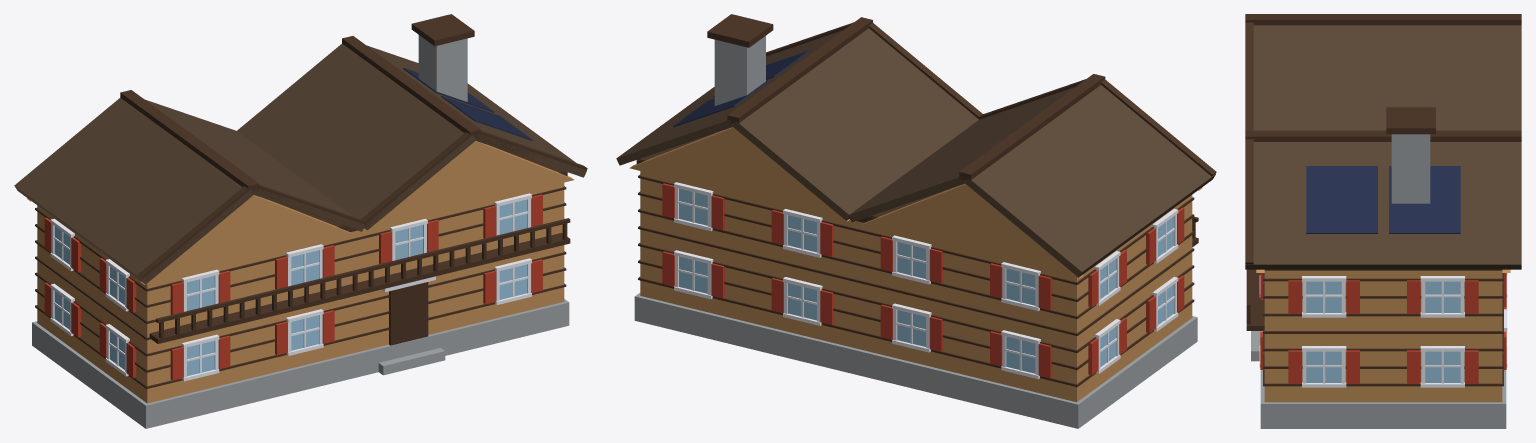
The model's file is house-2x1-2f-third-chalet-a-solar.glb.
3 renders of one model, left to right at view 1: azimuth 30°, elevation 25°; view 2: azimuth 150°, elevation 25°; view 3: azimuth 270°, elevation 25°, orthographic. The views are drawn at different scales.
Visible parts, largest first — view 1: house-2x1-2f-third-chalet-a-solar; view 2: house-2x1-2f-third-chalet-a-solar; view 3: house-2x1-2f-third-chalet-a-solar.
Part boxes in pixels (x1,y1,x2,y2): house-2x1-2f-third-chalet-a-solar: (14, 14, 587, 428); house-2x1-2f-third-chalet-a-solar: (616, 14, 1216, 428); house-2x1-2f-third-chalet-a-solar: (1245, 14, 1521, 428).
Bounding box in the file's own units: 2.01 × 1.12 × 1.
Materials: 1 (1 with a texture image).
